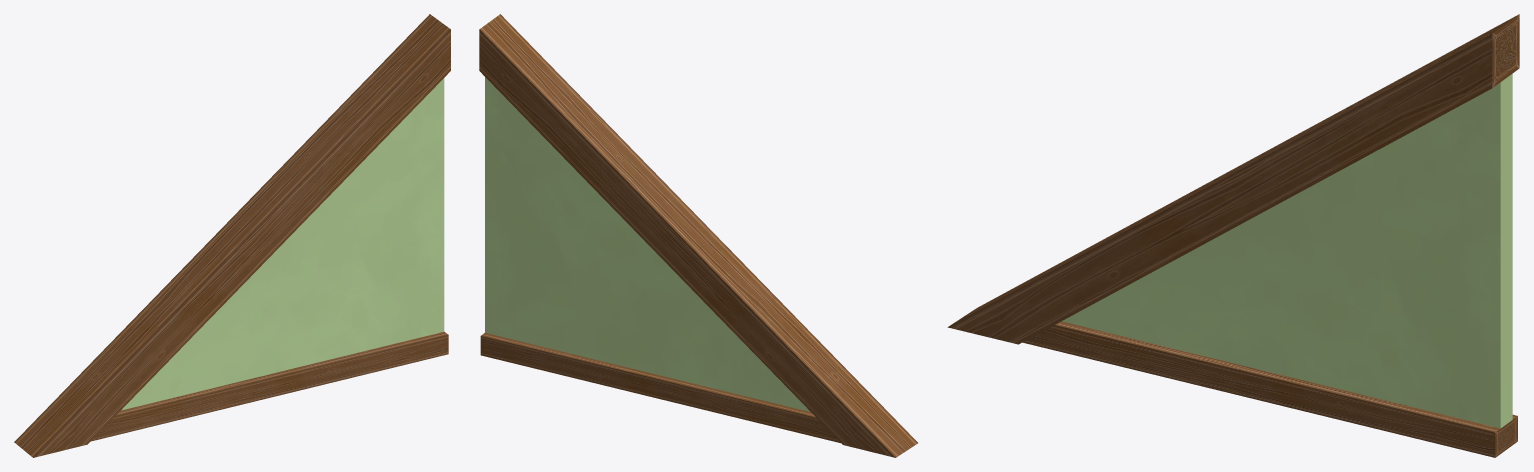
Rendered from SM_Roof_Wall_wmint.glb.
The picture shows the model from 3 angles, left to right: view 1: azimuth 30°, elevation 25°; view 2: azimuth 150°, elevation 25°; view 3: azimuth 330°, elevation 25°; orthographic projection. The views are drawn at different scales.
Visible parts, largest first — view 1: SM_Roof_Wall; view 2: SM_Roof_Wall; view 3: SM_Roof_Wall.
Part boxes in pixels (box(x1,y1,x2,y2)): SM_Roof_Wall: box(14, 14, 450, 457); SM_Roof_Wall: box(479, 14, 917, 457); SM_Roof_Wall: box(947, 14, 1519, 457).
Size of the model in its own units: 4.02 by 3.01 by 0.349.
2 materials, 2 textured.
